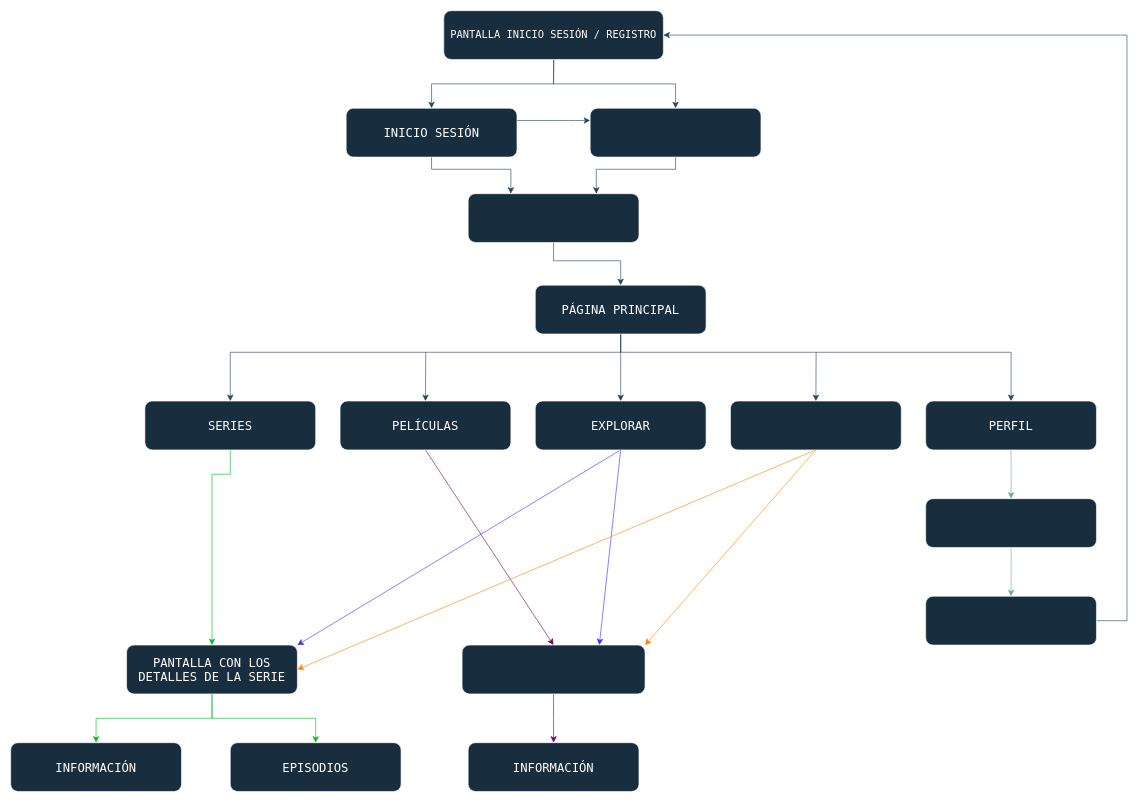
This 1144x802 diagram has some shape labels left out. Here are the shapes that lost their labels. From the top down, the box of each, then its label:
(590, 108, 761, 157): CREAR USUARIO
(468, 193, 639, 242): USUARIO
(730, 400, 901, 450): ESTRENOS
(925, 498, 1096, 547): PANTALLA PERFIL
(925, 596, 1096, 645): CERRAR SESIÓN
(461, 644, 645, 694): PANTALLA CON LOS DETALLES DE LA PELÍCULA
